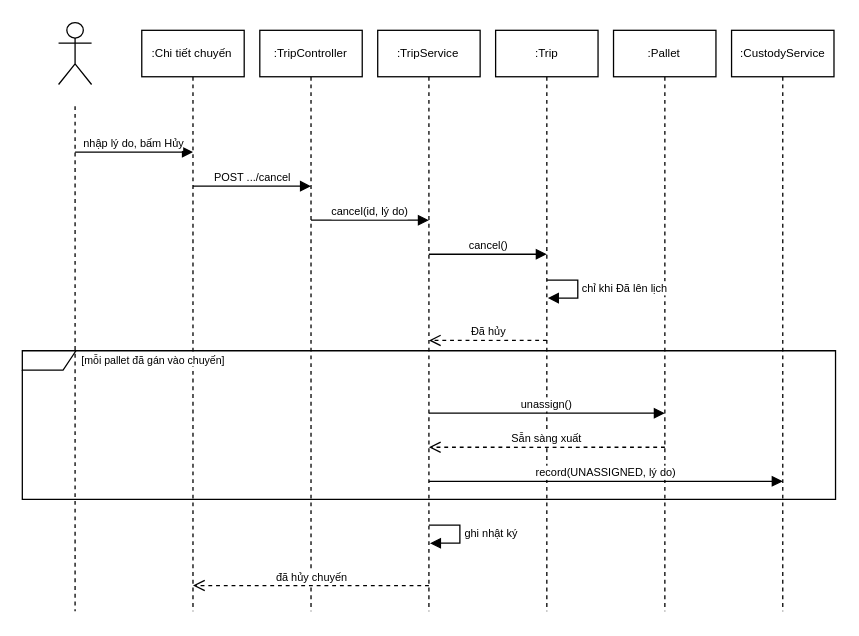
This 859x636 diagram has some shape labels left out. The shapes that lost their labels are listed below. From the top down, each one's box as (x1, y1, x2, y2) in pixels, then its label:
(57, 21, 92, 84): Quản lý kho
(21, 349, 836, 499): loop
